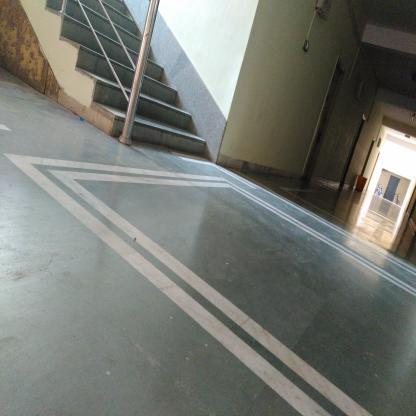stairs: (144, 88, 179, 153)
